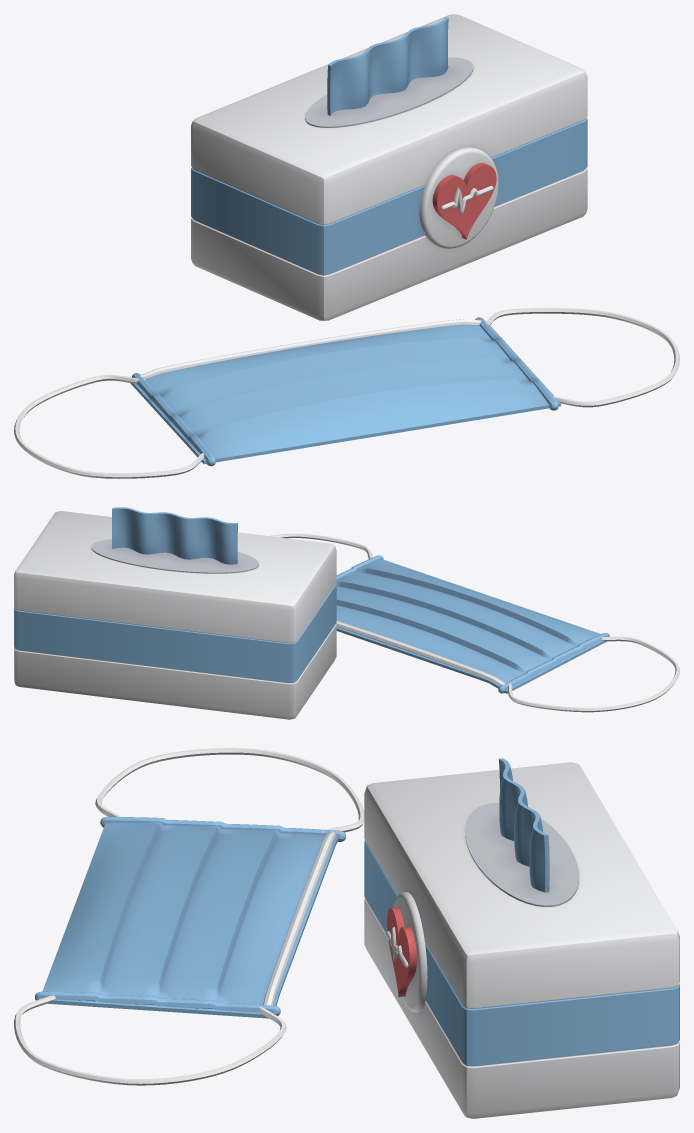
Rendered from cloth_face_mask_grab3d.glb.
The picture shows the model from 3 angles, top to bottom: view 1: azimuth 30°, elevation 25°; view 2: azimuth 150°, elevation 25°; view 3: azimuth 270°, elevation 25°; orthographic projection. The views are drawn at different scales.
Visible parts, largest first — view 1: face-mask_body; view 2: face-mask_body; view 3: face-mask_body.
Boxes of the visible parts, x1,y1,x2,y2 form: face-mask_body: [14, 14, 679, 478]; face-mask_body: [14, 507, 679, 719]; face-mask_body: [14, 748, 679, 1118].
Size of the model in its own units: 0.3509 by 0.1024 by 0.267.
1 material, 1 textured.
